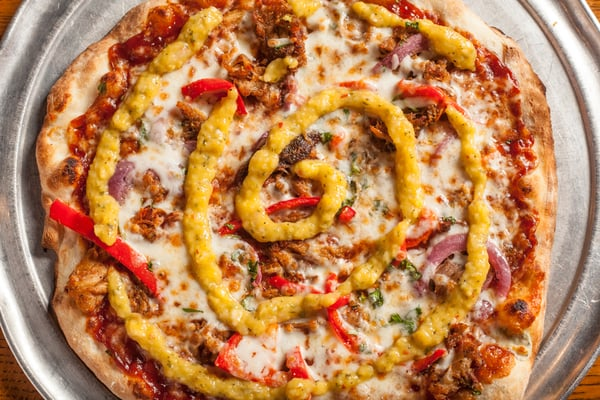sandwich: (18, 1, 582, 394)
